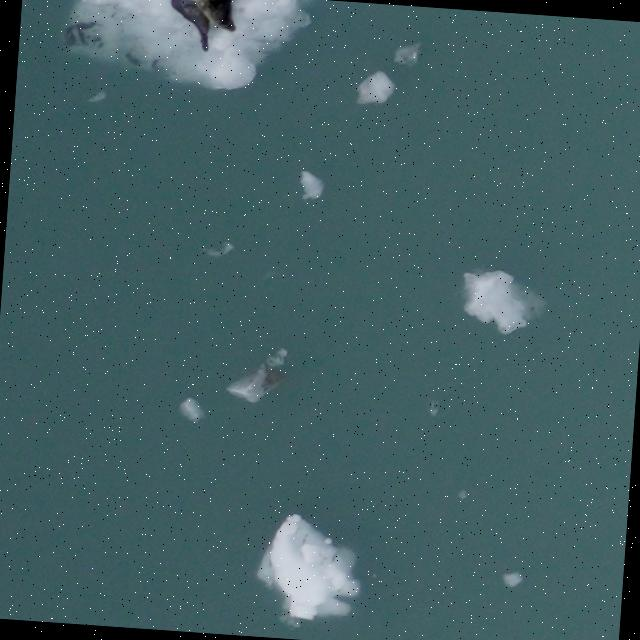seal: (162, 0, 216, 56), (182, 0, 242, 36)
